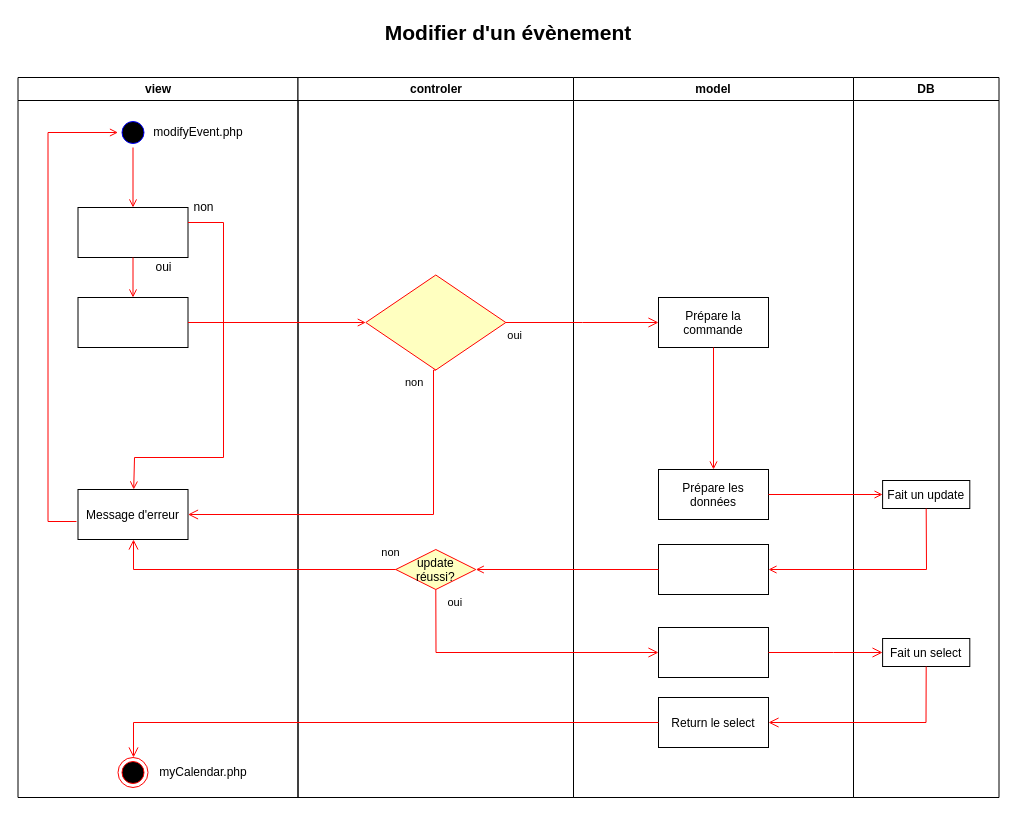
Some shapes in this 1016 by 815 pixel diagram are drawn without their labels. Each missing label, with the centre of its shape:
Check si toutes les valeurs insérée sont correcte: the point at 435,322
Informations toutes remplie?: the point at 132,232
Prépare la commande pour un select du calendar: the point at 713,652
Return si l'update est true / false: the point at 713,569
Submit: Modifier l'évènement: the point at 132,322
